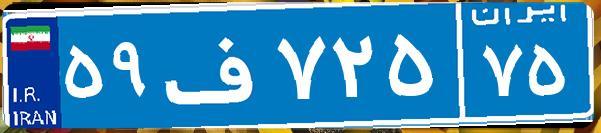2: (330, 28, 385, 110)
5: (385, 28, 445, 110), (57, 26, 110, 107), (525, 38, 570, 115)
7: (273, 28, 330, 110), (475, 38, 525, 113)
9: (110, 28, 158, 105)
ف: (158, 15, 273, 115)
